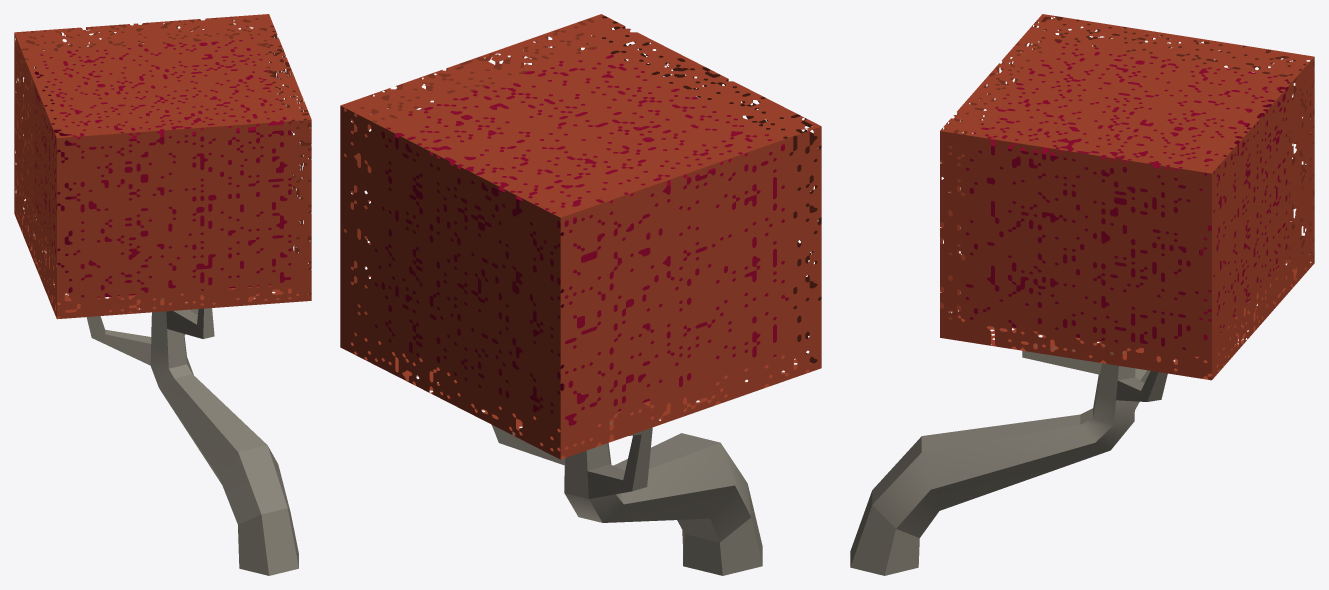
File: tree_02.fbx
The picture shows the model from 3 angles, left to right: view 1: azimuth 30°, elevation 25°; view 2: azimuth 150°, elevation 25°; view 3: azimuth 270°, elevation 25°; orthographic projection. The views are drawn at different scales.
Parts seen in each view (by area): view 1: tree_02; view 2: tree_02; view 3: tree_02.
Boxes of the visible parts, x1=… form: tree_02: x1=14, y1=14, x2=311, y2=575; tree_02: x1=340, y1=14, x2=821, y2=575; tree_02: x1=850, y1=14, x2=1314, y2=575.
Bounding box in the file's own units: 152 × 206 × 187.
